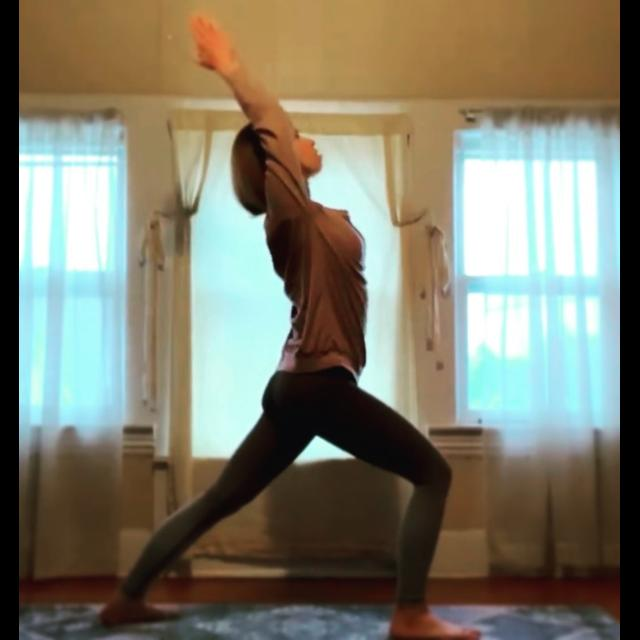Warrior_I: (86, 7, 490, 640)
